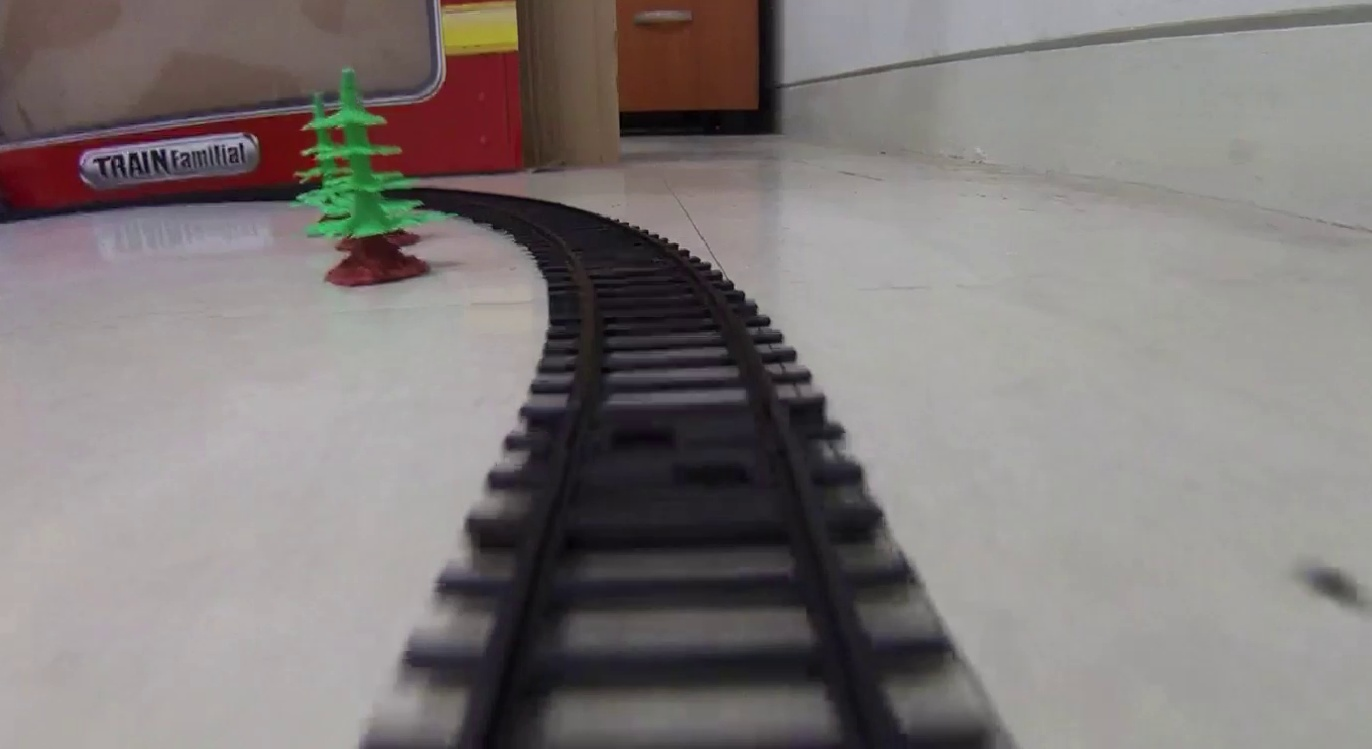tree: (323, 68, 430, 286)
